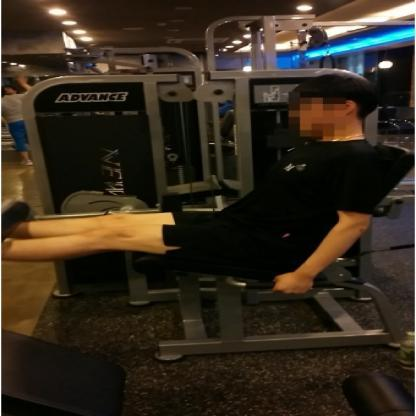leg extension: (0, 37, 416, 366)
